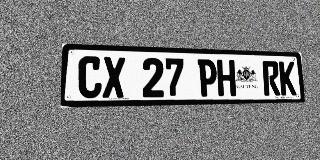2: (142, 58, 164, 97)
7: (164, 58, 185, 97)
C: (78, 56, 102, 98)
H: (217, 60, 236, 96)
K: (279, 61, 296, 95)
P: (198, 59, 217, 97)
R: (262, 61, 280, 96)
X: (102, 57, 125, 98)
